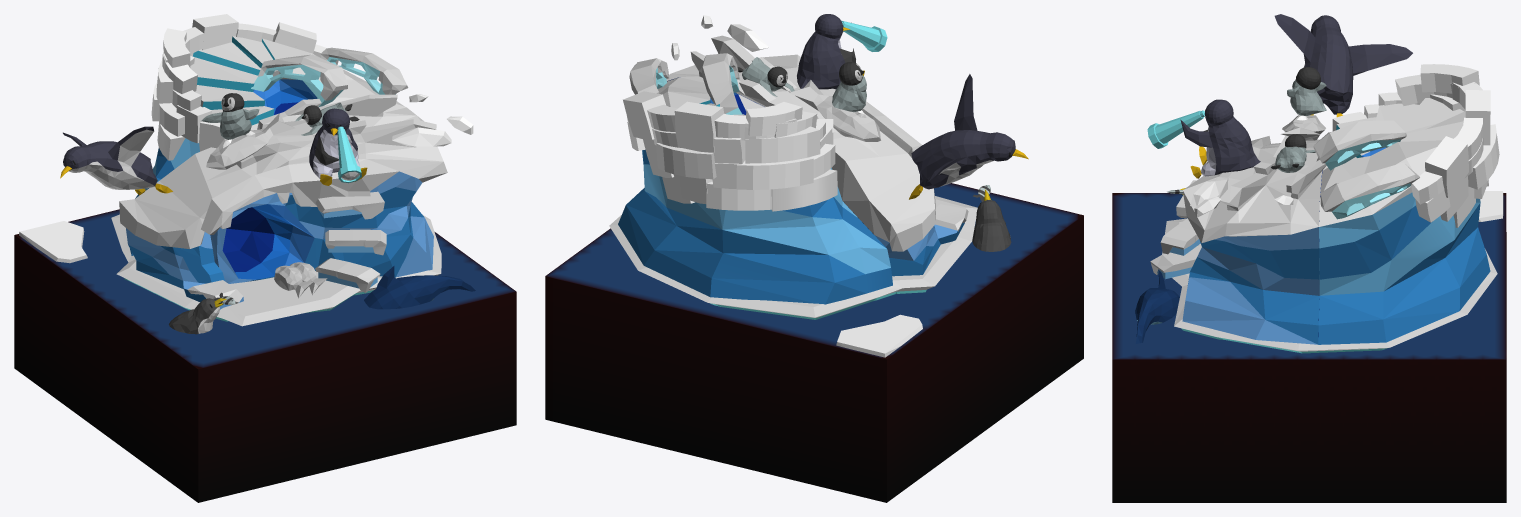
The model's file is 0053_penguinPlayGround.fbx.
3 views of the same model, side by side, from view 1: azimuth 30°, elevation 25°; view 2: azimuth 150°, elevation 25°; view 3: azimuth 270°, elevation 25° (orthographic). The views are drawn at different scales.
Visible parts, largest first — view 1: [water], iceCave_front, iceCave_back, Glacier, penguin_flying, Handrail_in, iceBrick_square2 (×3), dolphin_mom, fish_ice (×2), iceBrick_small (×3), Handrail_out, icePiece_big (+13 smaller); view 2: [water], iceCave_back, iceCave_front, iceBrick_big2 (×3), Glacier, iceBrick_square2 (×5), penguin_flying, penguin_wink, iceBrick_small (×3), icePiece_big, fish_ice, Handrail_in (+9 smaller); view 3: [water], iceCave_back, iceCave_front, penguin_flying, iceBrick_square2 (×4), penguin_wink, Glacier, iceBrick_small (×3), Handrail_out, Handrail_in, dolphin_mom, penguin_baby (+9 smaller).
Boxes of the visible parts, x1,y1,x2,y2 form: [water]: [14, 209, 516, 502]; iceCave_front: [119, 94, 447, 309]; iceCave_back: [130, 36, 404, 255]; Glacier: [111, 214, 441, 326]; penguin_flying: [60, 126, 172, 195]; Handrail_in: [251, 54, 347, 106]; iceBrick_square2 (×3): [192, 14, 316, 151]; dolphin_mom: [364, 266, 475, 309]; fish_ice (×2): [206, 113, 313, 298]; iceBrick_small (×3): [158, 28, 197, 136]; Handrail_out: [320, 47, 408, 94]; icePiece_big: [19, 221, 87, 263]; [water]: [545, 183, 1083, 502]; iceCave_back: [618, 77, 892, 304]; iceCave_front: [666, 35, 968, 276]; iceBrick_big2 (×3): [656, 126, 820, 189]; Glacier: [609, 196, 977, 319]; iceBrick_square2 (×5): [623, 91, 745, 203]; penguin_flying: [909, 74, 1028, 199]; penguin_wink: [797, 14, 864, 89]; iceBrick_small (×3): [714, 102, 817, 140]; icePiece_big: [836, 314, 922, 357]; fish_ice: [788, 80, 880, 141]; Handrail_in: [701, 53, 742, 114]; [water]: [1112, 193, 1506, 502]; iceCave_back: [1318, 98, 1490, 344]; iceCave_front: [1182, 135, 1326, 344]; penguin_flying: [1274, 14, 1412, 117]; iceBrick_square2 (×4): [1415, 90, 1490, 222]; penguin_wink: [1180, 99, 1260, 178]; Glacier: [1162, 218, 1497, 353]; iceBrick_small (×3): [1395, 64, 1479, 204]; Handrail_out: [1320, 162, 1419, 219]; Handrail_in: [1313, 120, 1406, 170]; dolphin_mom: [1135, 269, 1179, 343]; penguin_baby: [1287, 67, 1326, 115].
Size of the model in its own units: 11.41 by 9.49 by 10.02.
